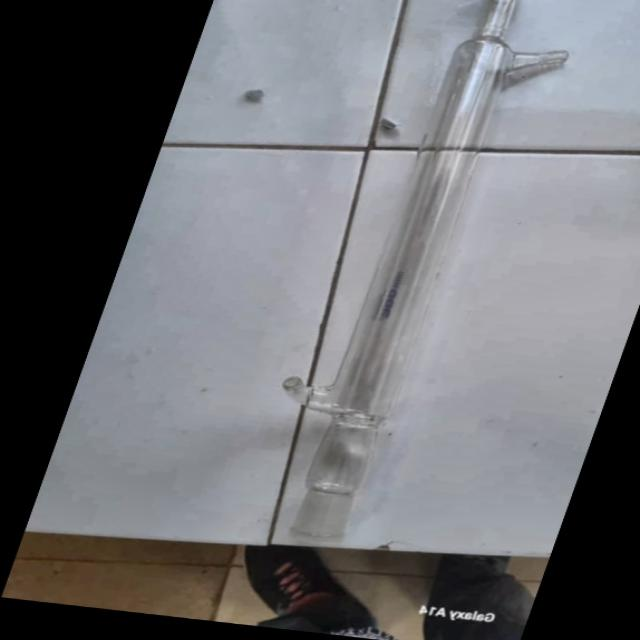Distillation: (213, 0, 620, 562)
